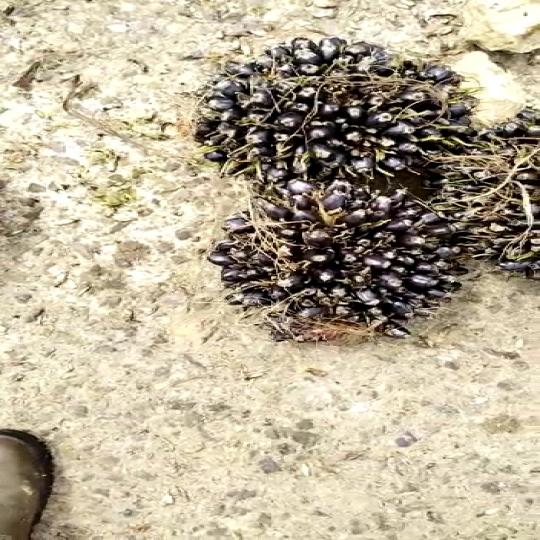mentah: (204, 205, 515, 361), (185, 37, 465, 195)
